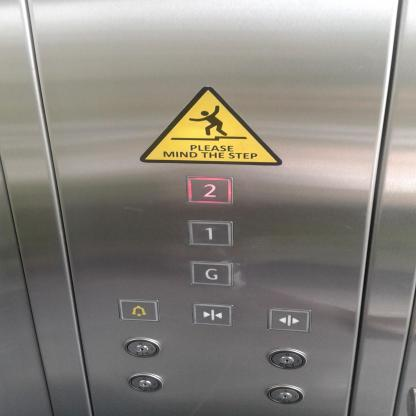1: (185, 218, 236, 248)
2: (183, 174, 234, 205)
G: (186, 258, 236, 288)
alarm: (114, 296, 162, 322)
close: (188, 301, 235, 328)
keyhole: (265, 347, 309, 370), (124, 370, 167, 393), (120, 336, 163, 358), (265, 384, 305, 406)
open: (264, 306, 312, 335)
